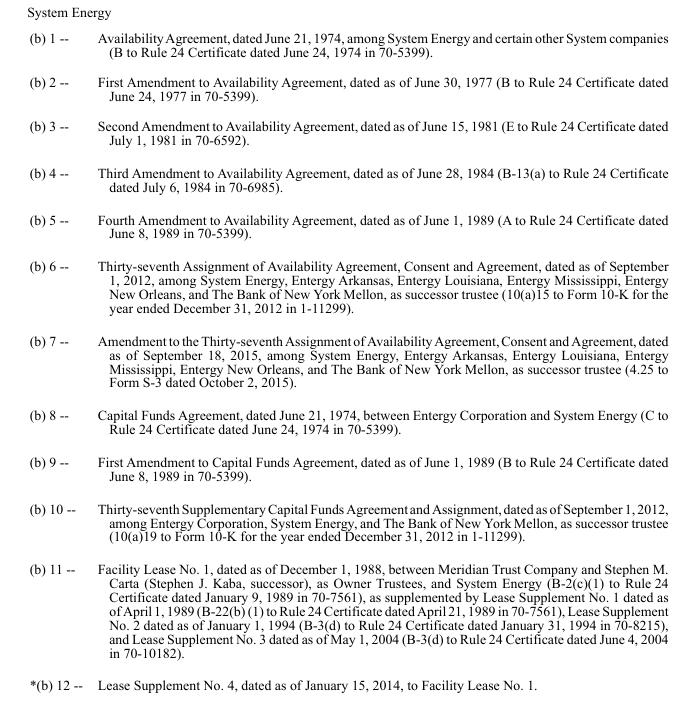table: (28, 29, 667, 692)
table column: (89, 29, 667, 692), (28, 29, 89, 692)
table row: (28, 552, 667, 668), (28, 323, 667, 398), (28, 249, 667, 323), (28, 491, 667, 552), (28, 155, 667, 202), (28, 202, 667, 249), (28, 444, 667, 491), (28, 398, 667, 444), (28, 110, 667, 155), (28, 66, 667, 110), (28, 29, 667, 66), (28, 668, 667, 692)
